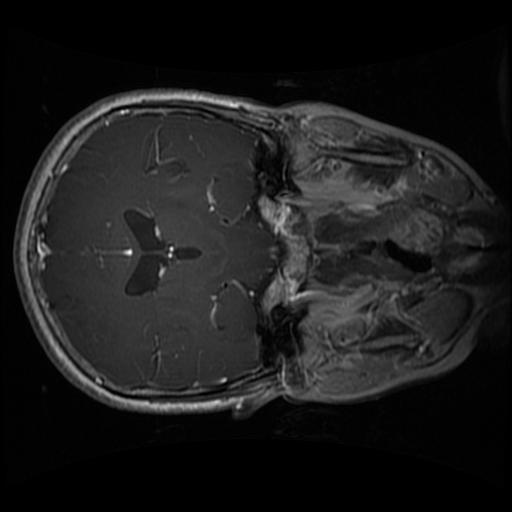glioma: (138, 121, 191, 189)
